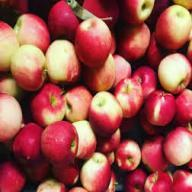apple: (118, 18, 158, 67), (34, 123, 77, 161), (155, 6, 189, 49), (10, 46, 44, 88), (78, 21, 110, 64), (90, 93, 124, 133), (12, 14, 49, 50), (45, 40, 75, 84), (32, 81, 63, 123), (156, 54, 192, 90), (140, 132, 172, 171), (76, 154, 110, 190), (83, 56, 116, 92), (144, 89, 176, 126), (12, 118, 41, 158), (66, 118, 96, 156), (114, 78, 142, 118), (164, 126, 190, 168), (65, 87, 90, 123), (113, 138, 141, 169), (132, 67, 160, 98), (2, 93, 20, 139), (125, 1, 153, 26), (146, 168, 172, 191)
